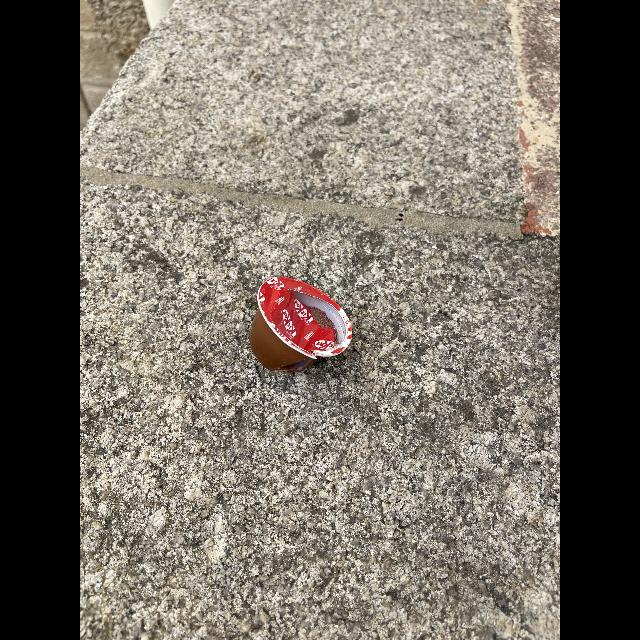damaged_capsule: (230, 271, 362, 377)
